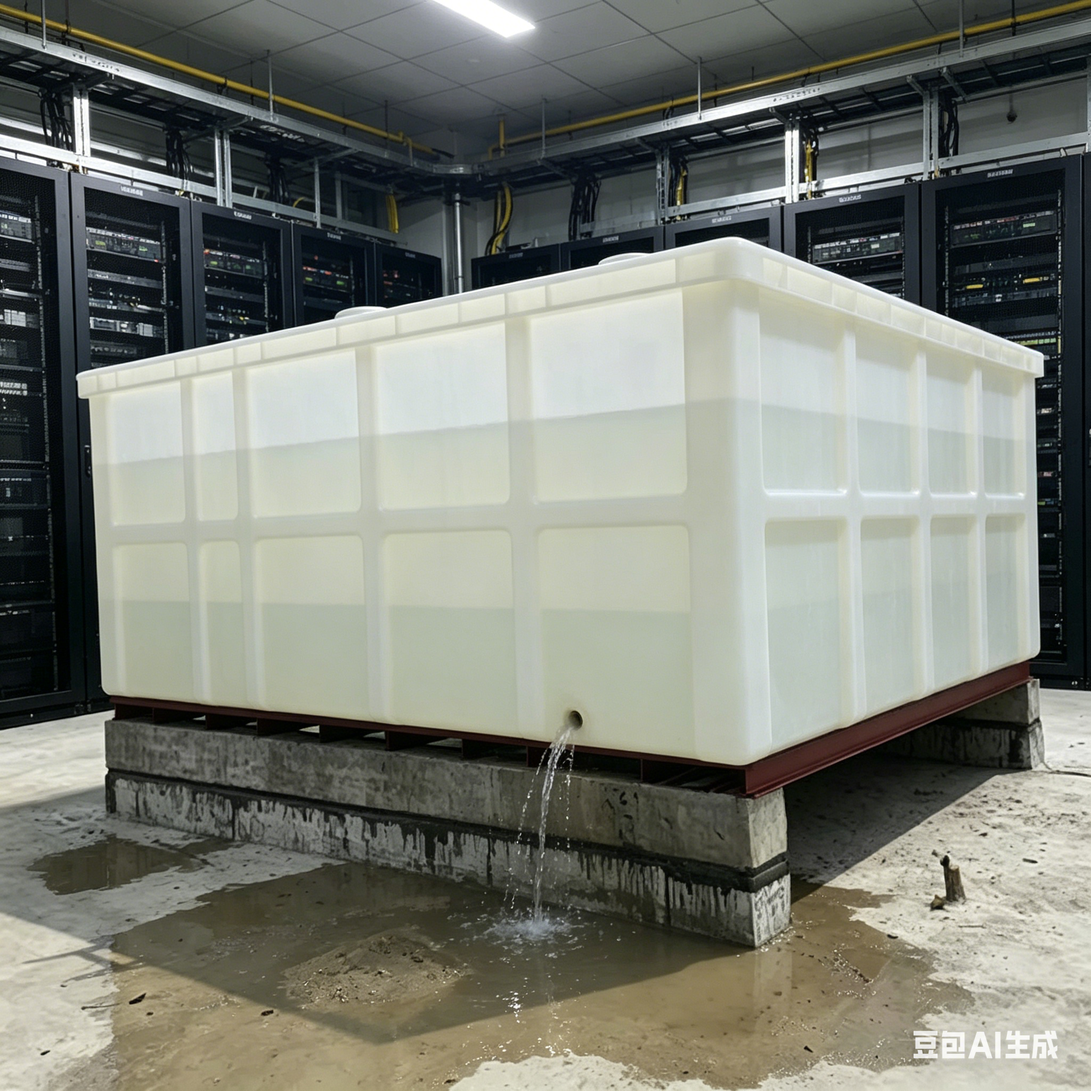Leakage: (120, 931, 495, 1091), (614, 927, 959, 1067), (507, 686, 602, 1047), (235, 876, 501, 933), (38, 834, 187, 900), (798, 874, 884, 921)
